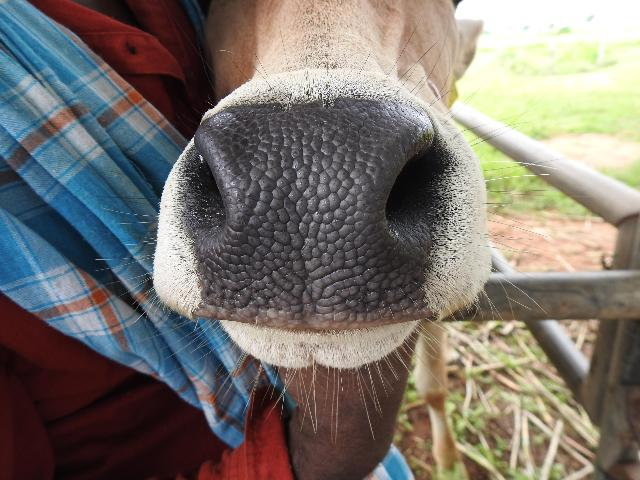Muzzle: (203, 114, 423, 330)
